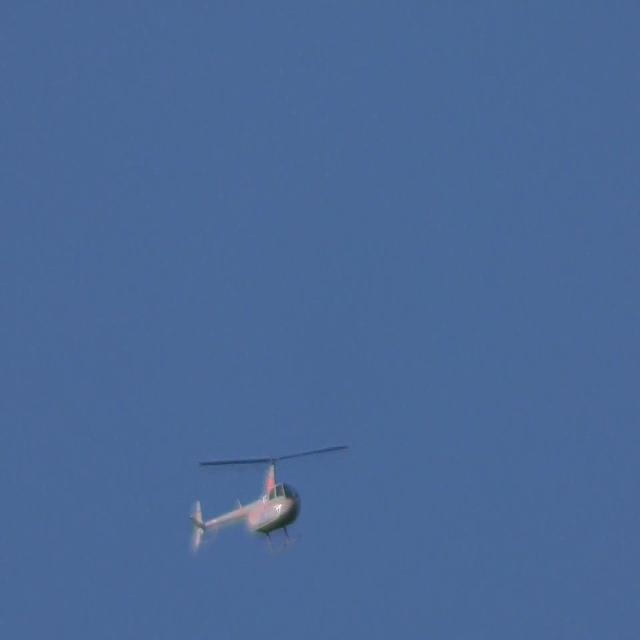CIV_HELO: (188, 454, 307, 562)
